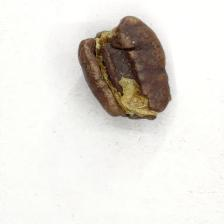NG: (81, 18, 161, 117)
